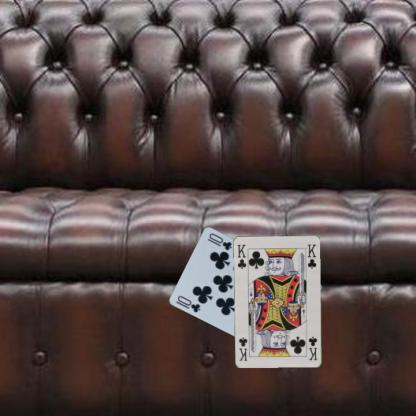10c: (175, 293, 202, 314)
Kc: (235, 242, 247, 270), (307, 334, 318, 362)
